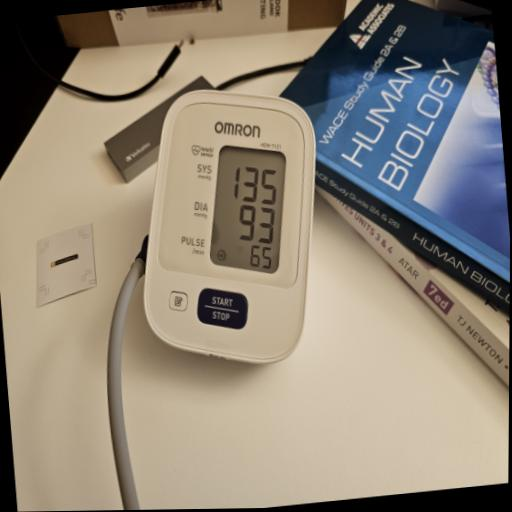lcd display: (199, 138, 296, 281)
